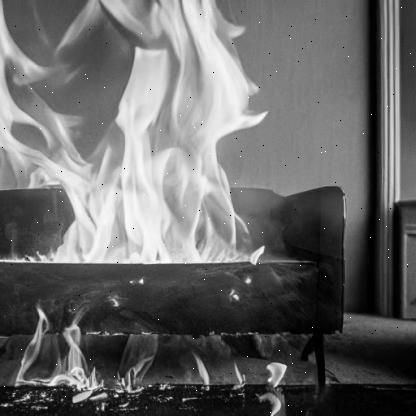fire: (0, 0, 269, 271), (0, 300, 299, 416)
